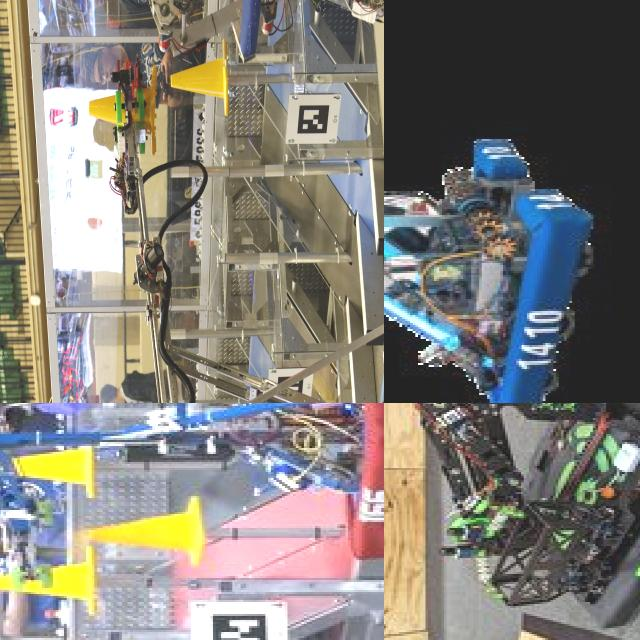FRC-Robots: (146, 126, 384, 403), (392, 403, 640, 634), (0, 403, 384, 551), (384, 134, 588, 403), (221, 0, 384, 190)
